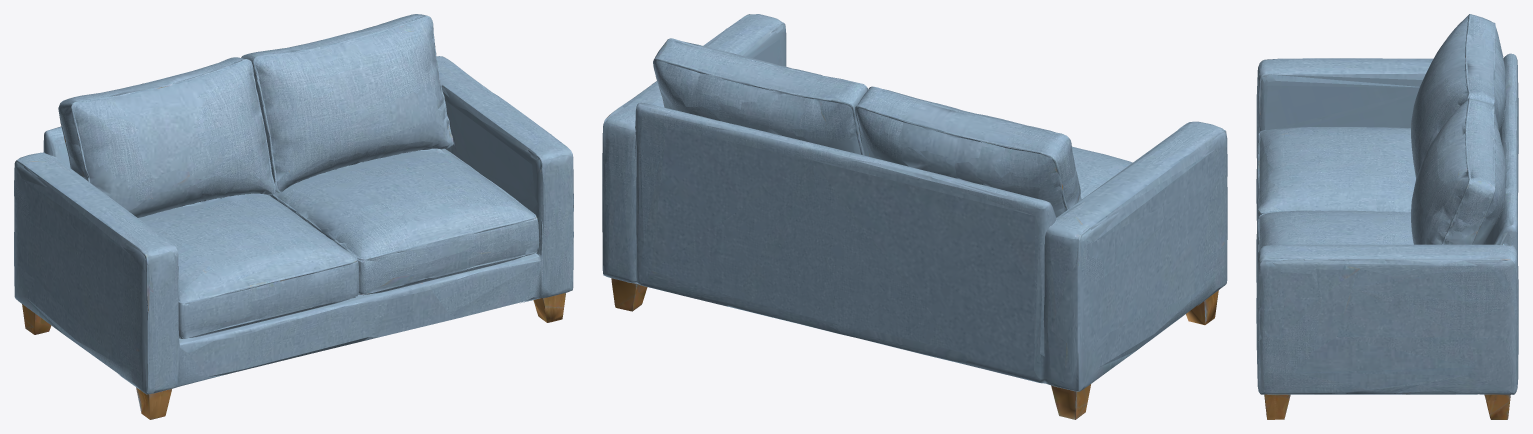
The model's file is upm_mv3pqum04rs.glb.
The picture shows the model from 3 angles, left to right: view 1: azimuth 30°, elevation 25°; view 2: azimuth 150°, elevation 25°; view 3: azimuth 270°, elevation 25°; orthographic projection. The views are drawn at different scales.
Size of the model in its own units: 1.9 by 0.989 by 1.03.
Materials: 1 (1 with a texture image).
